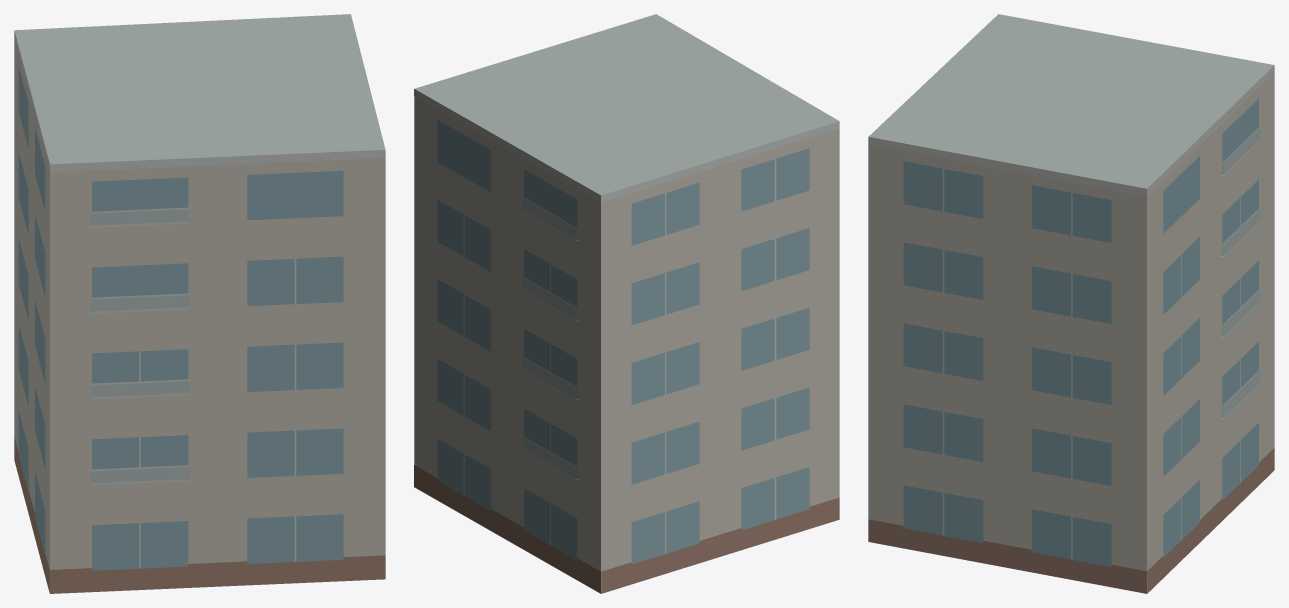
Rendered from survey-upis-32601541.glb.
3 renders of one model, left to right at view 1: azimuth 30°, elevation 25°; view 2: azimuth 150°, elevation 25°; view 3: azimuth 270°, elevation 25°, orthographic. The views are drawn at different scales.
Parts seen in each view (by area): view 1: survey-upis-32601541.tmp; view 2: survey-upis-32601541.tmp; view 3: survey-upis-32601541.tmp.
Part boxes in pixels (<box>): survey-upis-32601541.tmp: <box>14,14,385,593</box>; survey-upis-32601541.tmp: <box>414,14,839,593</box>; survey-upis-32601541.tmp: <box>868,14,1274,593</box>.
Bounding box in the file's own units: 12.13 × 13.1 × 11.92.
